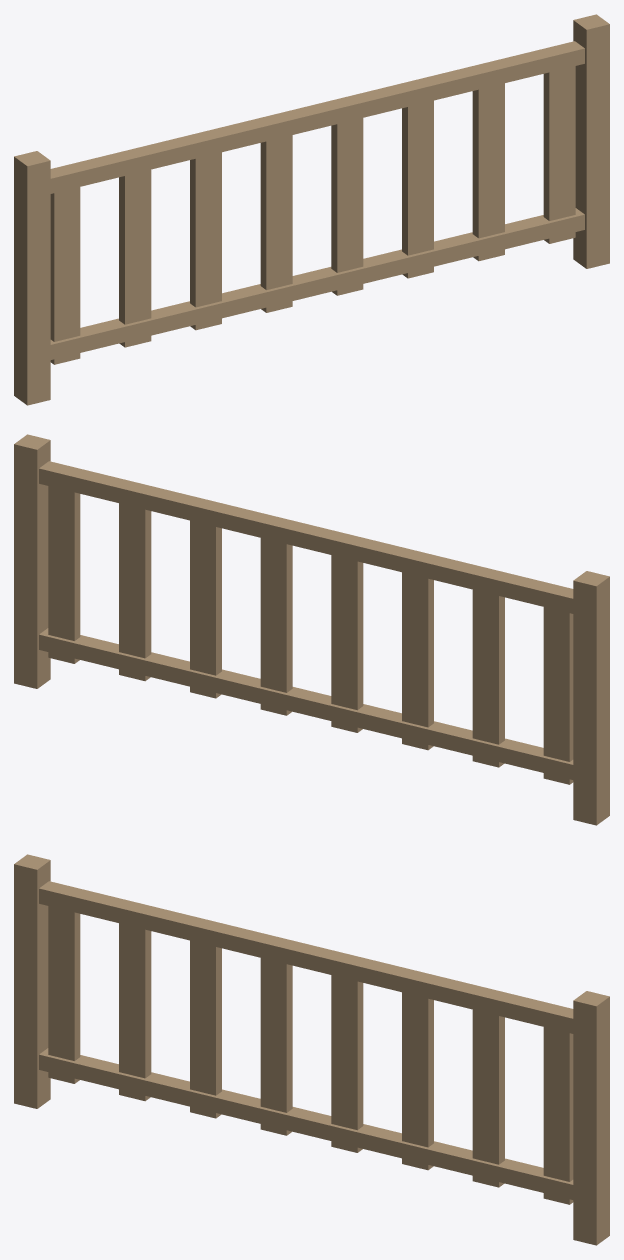
Rendered from snow-fence.glb.
3 renders of one model, top to bottom at view 1: azimuth 30°, elevation 25°; view 2: azimuth 150°, elevation 25°; view 3: azimuth 330°, elevation 25°, orthographic.
Size of the model in its own units: 4 by 1.57 by 0.16.
